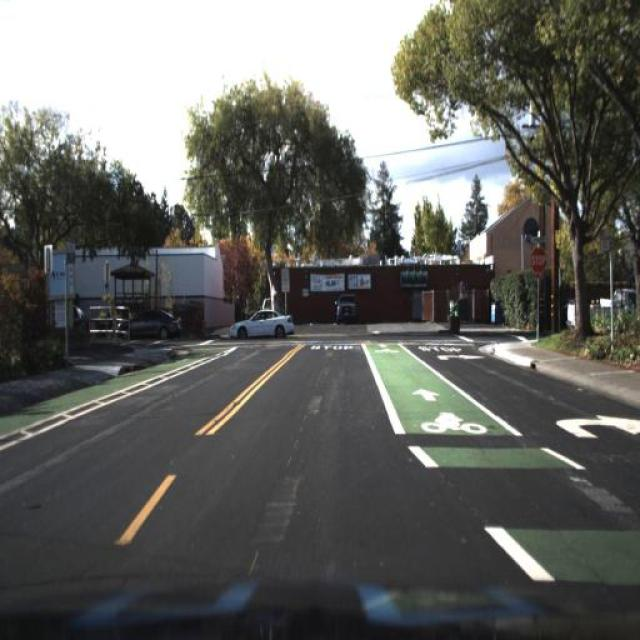car: (564, 282, 638, 346), (228, 305, 298, 346), (108, 305, 183, 339), (330, 289, 362, 332)
